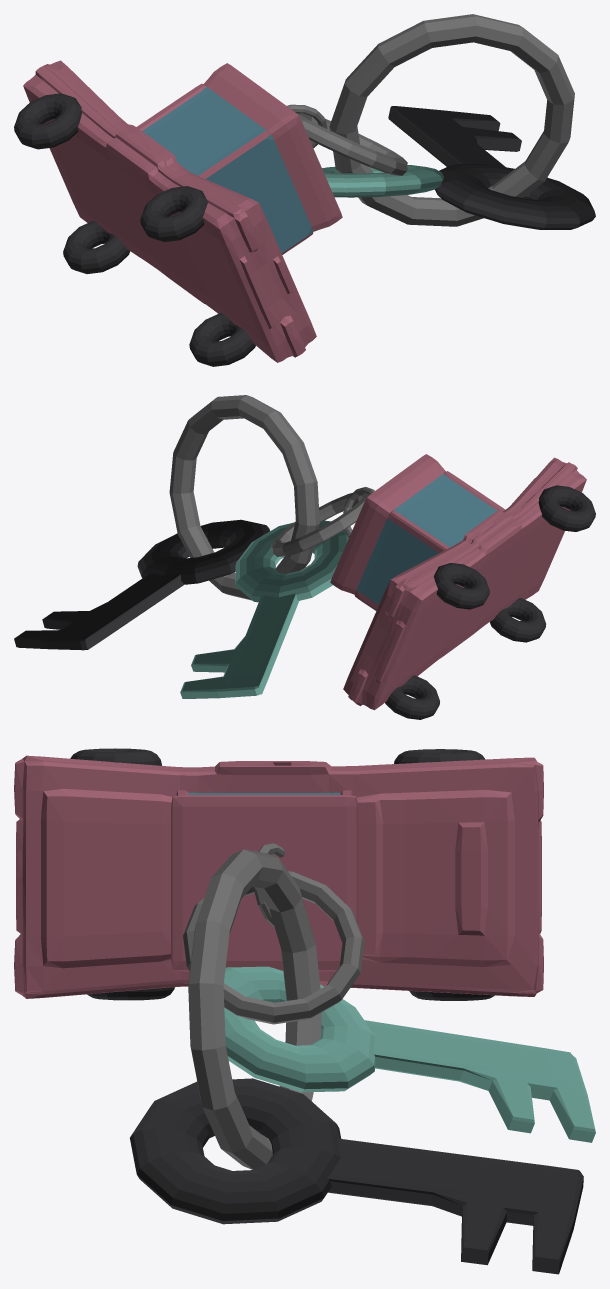
The model's file is Carkeys.fbx.
3 renders of one model, top to bottom at view 1: azimuth 30°, elevation 25°; view 2: azimuth 150°, elevation 25°; view 3: azimuth 270°, elevation 25°, orthographic. The views are drawn at different scales.
Visible parts, largest first — view 1: CarKeys; view 2: CarKeys; view 3: CarKeys.
Boxes of the visible parts, left/top/right/bottom form: CarKeys: left=14, top=14, right=595, bottom=366; CarKeys: left=14, top=395, right=595, bottom=719; CarKeys: left=14, top=748, right=595, bottom=1274.
Size of the model in its own units: 21.4 by 9.64 by 16.16.
